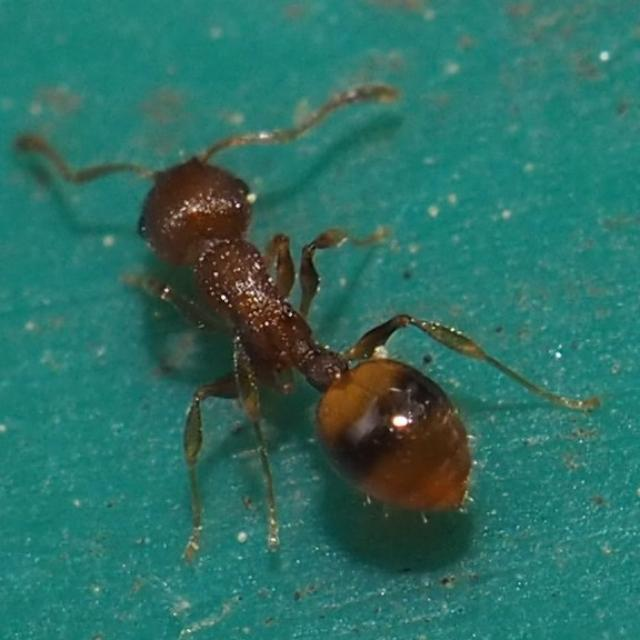Temnothorax: (100, 84, 574, 520)
